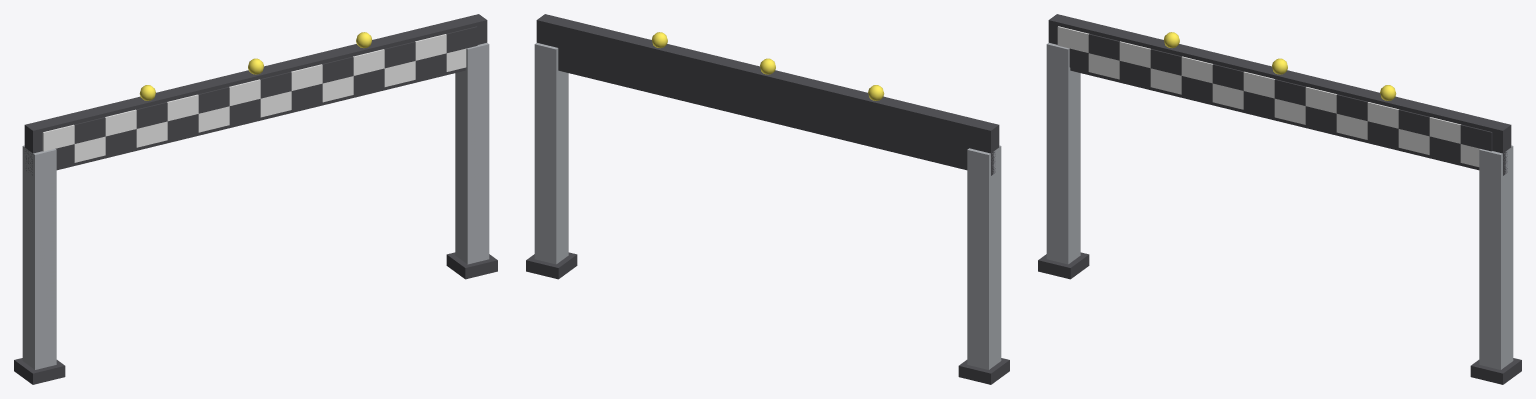
The model's file is rc_checkpoint.glb.
3 renders of one model, left to right at view 1: azimuth 30°, elevation 25°; view 2: azimuth 150°, elevation 25°; view 3: azimuth 330°, elevation 25°, orthographic.
Visible parts, largest first — view 1: rc_checkpoint; view 2: rc_checkpoint; view 3: rc_checkpoint.
Part boxes in pixels (x1,y1,x2,y2): rc_checkpoint: (14, 14, 497, 384); rc_checkpoint: (526, 14, 1009, 384); rc_checkpoint: (1038, 14, 1521, 384).
Size of the model in its own units: 12.9 by 6.95 by 0.9.
